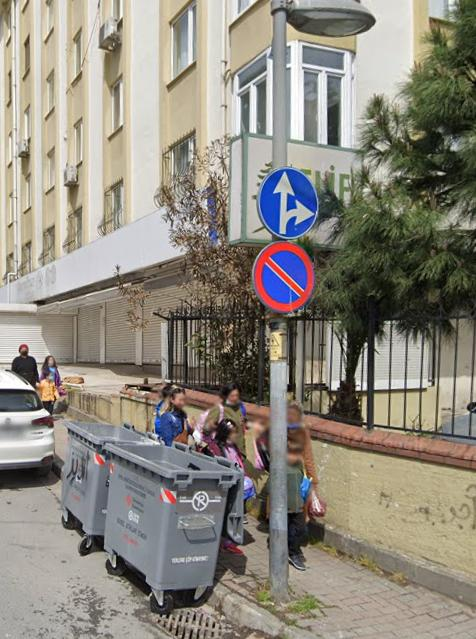nopark: (254, 244, 312, 312)
